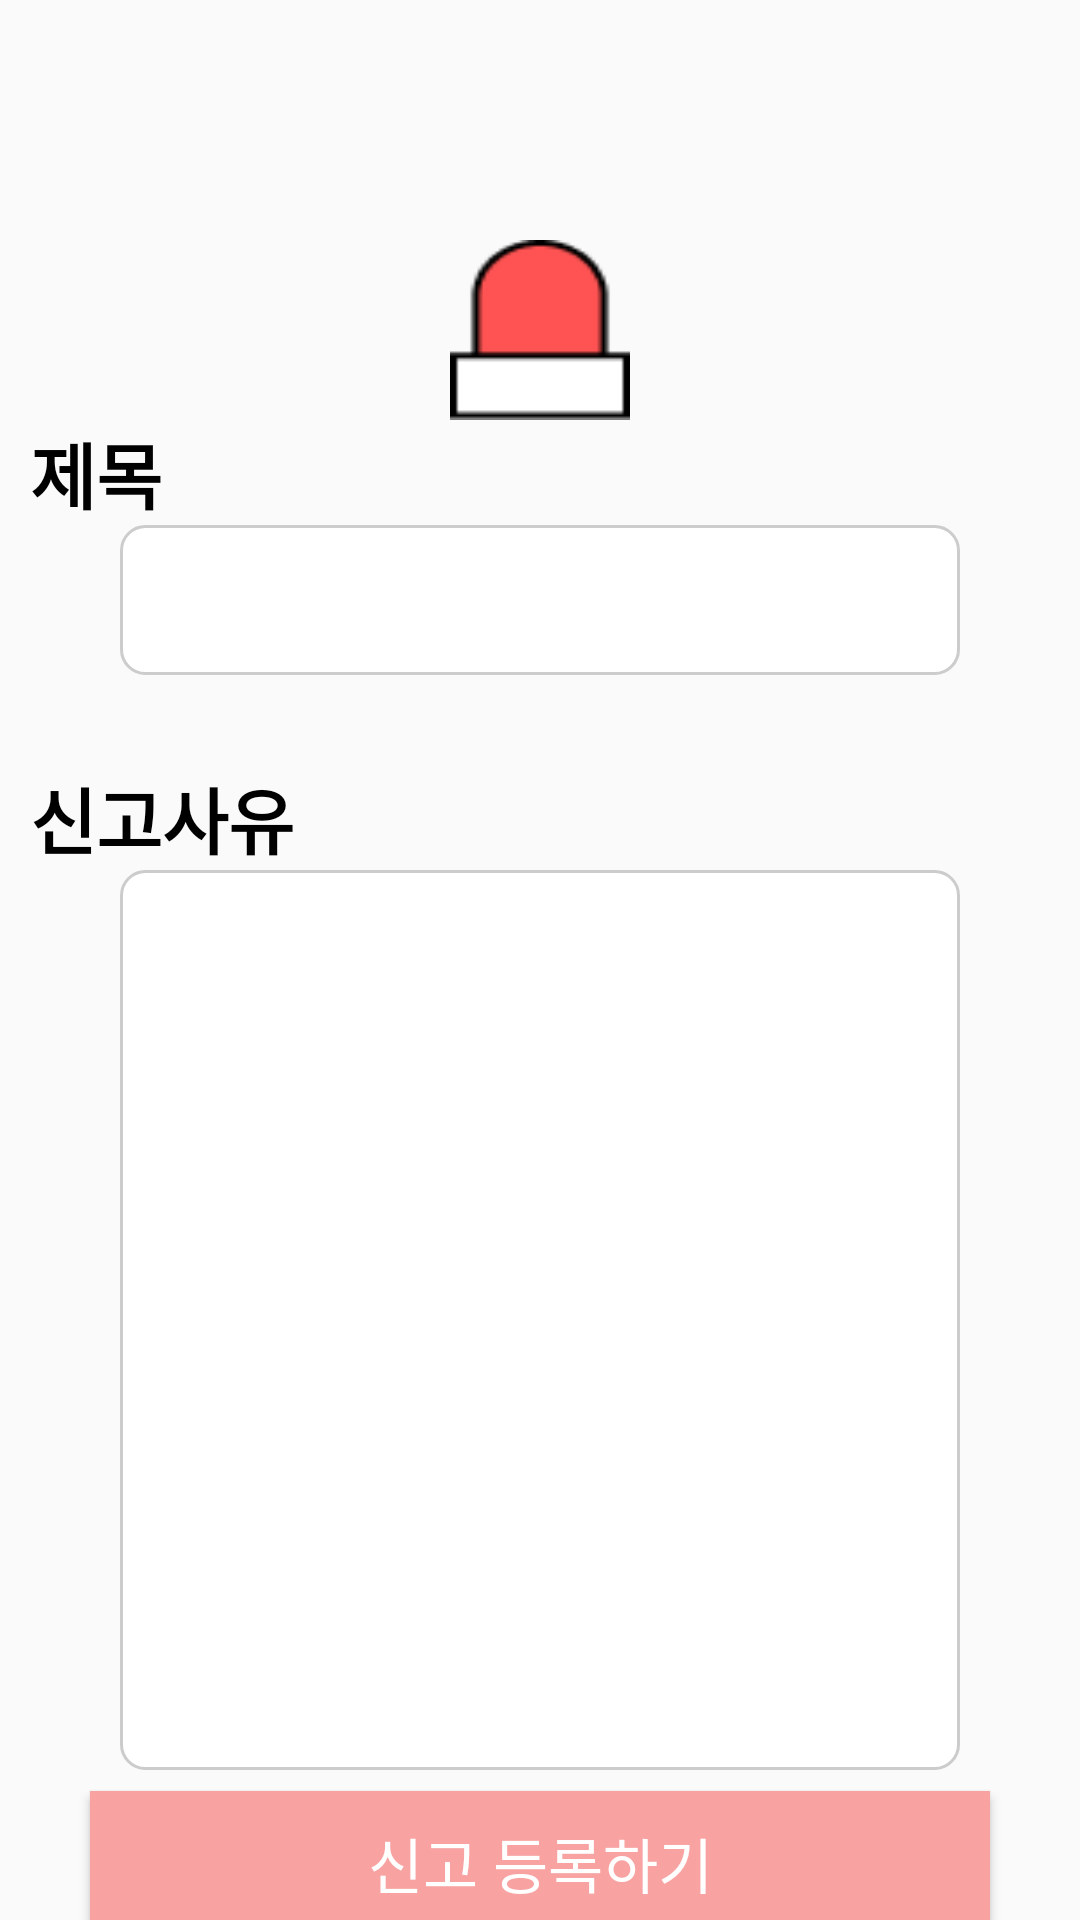

Where icons sit on this 1080px x 1920px app screen, as bbox(x1, y1, x2, y2):
bigsingo: bbox(450, 240, 630, 420)
